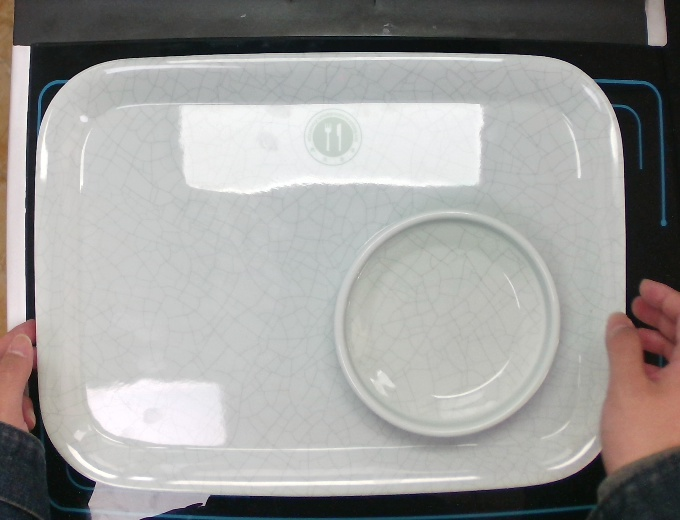JYsf-Xiao_Yuan_Pan: (329, 205, 567, 441)
